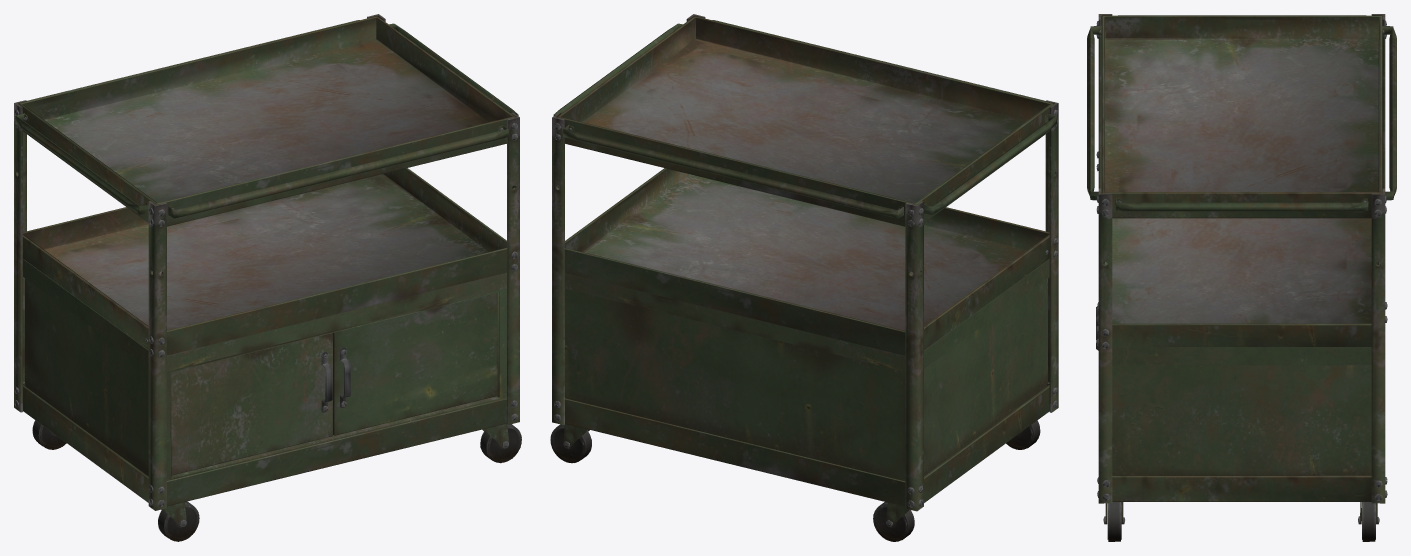
The model's file is industrial_storage_cart.glb.
The picture shows the model from 3 angles, left to right: view 1: azimuth 30°, elevation 25°; view 2: azimuth 150°, elevation 25°; view 3: azimuth 270°, elevation 25°; orthographic projection.
Parts seen in each view (by area): view 1: industrial_storage_cart; view 2: industrial_storage_cart; view 3: industrial_storage_cart.
Boxes of the visible parts, <box> form: industrial_storage_cart: <box>14,14,521,541</box>; industrial_storage_cart: <box>550,14,1058,541</box>; industrial_storage_cart: <box>1087,14,1396,541</box>.
Bounding box in the file's own units: 1.6 × 1.38 × 1.1.
1 material, 1 textured.
